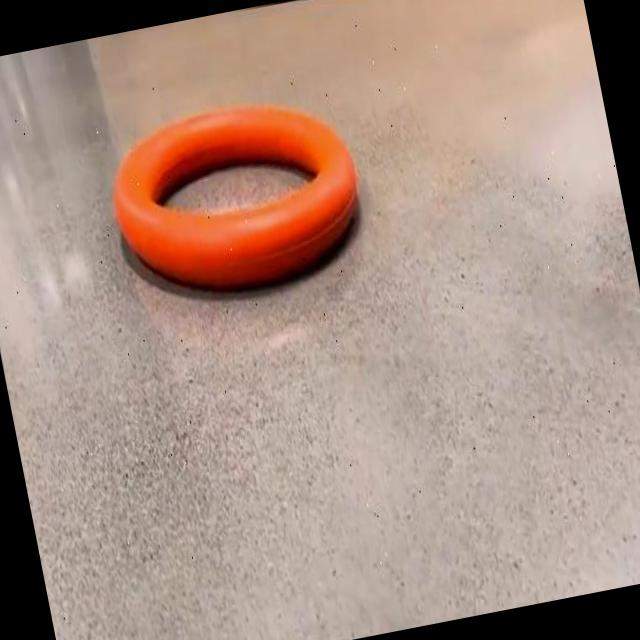note: (114, 107, 358, 287)
